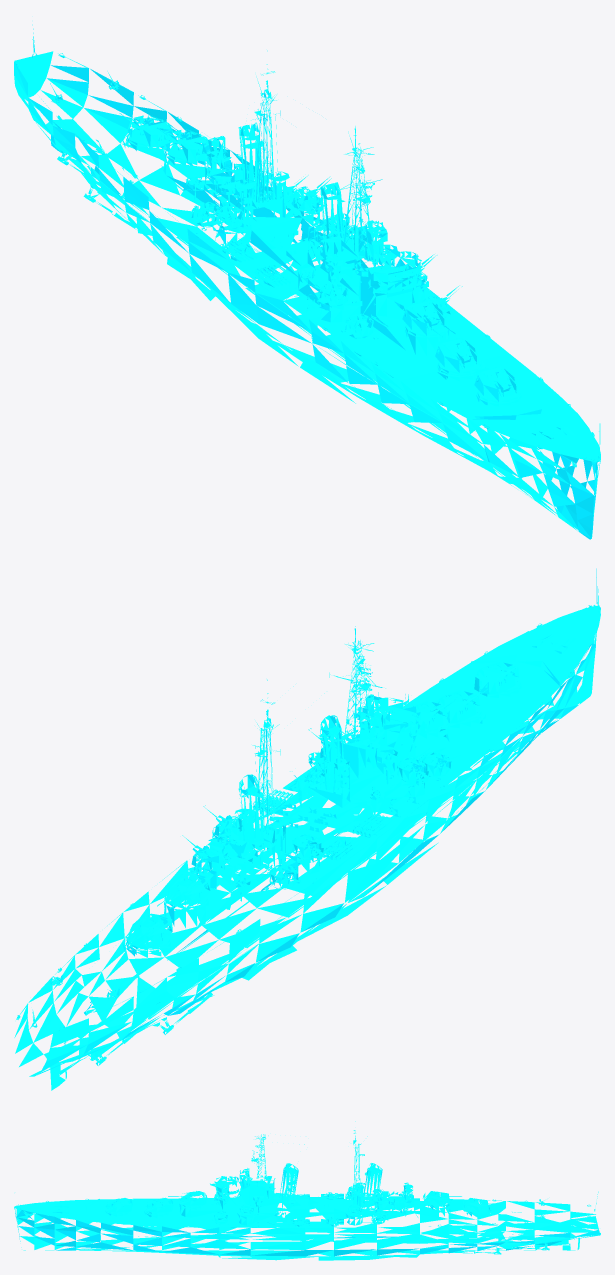
The model's file is PUSC810.glb.
The picture shows the model from 3 angles, top to bottom: view 1: azimuth 30°, elevation 25°; view 2: azimuth 150°, elevation 25°; view 3: azimuth 270°, elevation 25°; orthographic projection. The views are drawn at different scales.
Parts seen in each view (by area): view 1: hull, turret; view 2: hull, turret; view 3: hull, turret.
Part boxes in pixels (x1,y1,x2,y2): hull: (14, 24, 600, 539); turret: (50, 64, 520, 402); hull: (14, 568, 600, 1090); turret: (50, 660, 527, 999); hull: (14, 1121, 600, 1260); turret: (94, 1130, 546, 1223).
Size of the model in its own units: 1.63 by 3.11 by 12.63.
